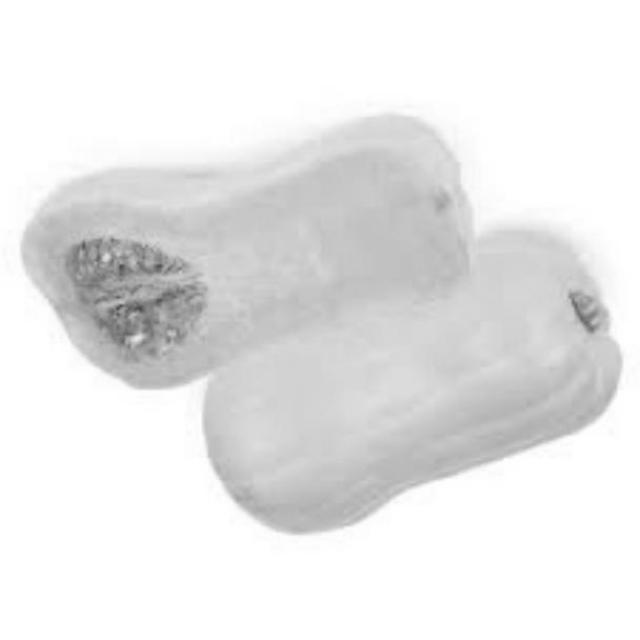bi ngo: (192, 224, 628, 542), (18, 122, 478, 396)
